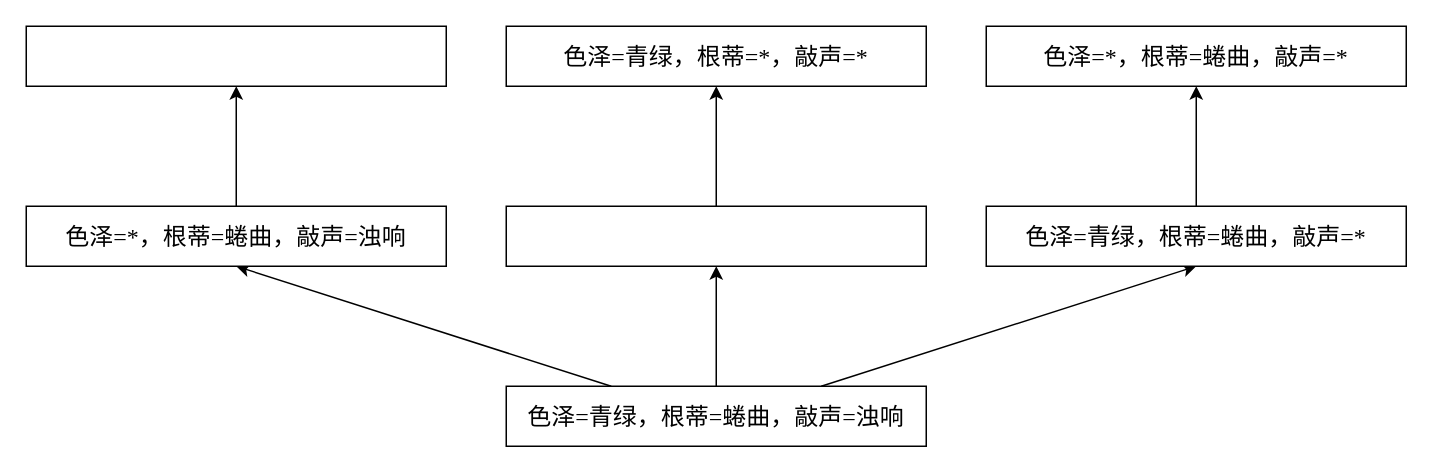
Some shapes in this 1433 by 473 pixel diagram are drawn without their labels. Here are the shapes that lost their labels. From the top down, the centre of each, then its label:
At (x=235, y=55): "色泽=*，根蒂=*，敲声=浊响".
At (x=715, y=235): "色泽=青绿，根蒂=*，敲声=浊响".
